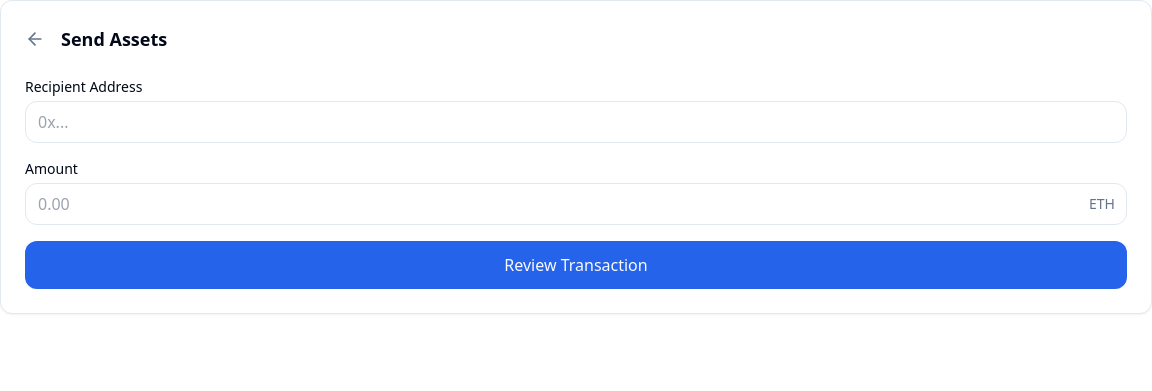
Test: TransferForm › should show error for invalid amount
The width and height of the screenshot is (1152, 391).
Type "0x742d35Cc6634C0532925a3b844Bc454e4438f44e" into the field with placeholder "0x..." at (576, 122), box [25, 101, 1127, 143]
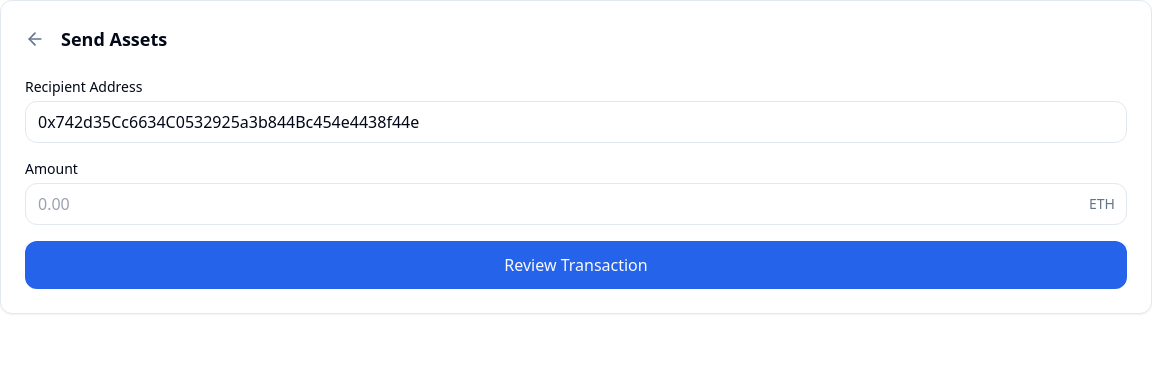
Type "0" into the number field with placeholder "0.00" at (576, 204), box [25, 183, 1127, 225]
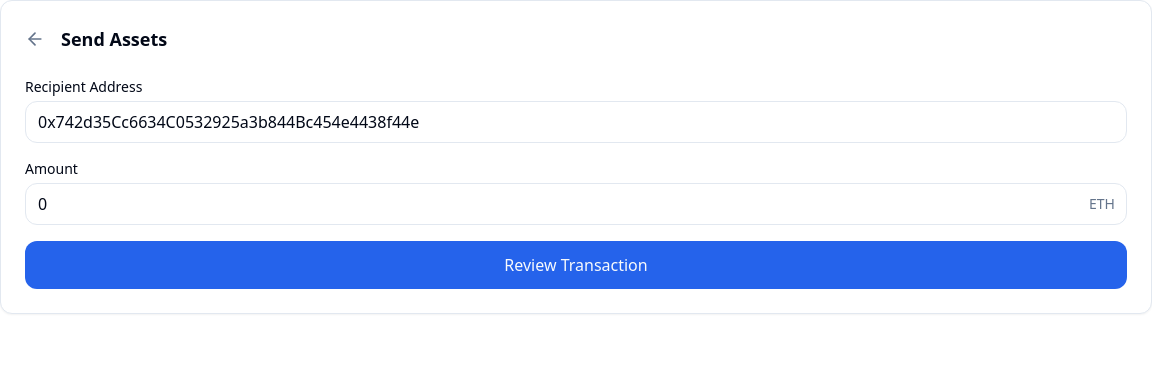
Click the button "Review Transaction" at (576, 265), box [25, 241, 1127, 289]
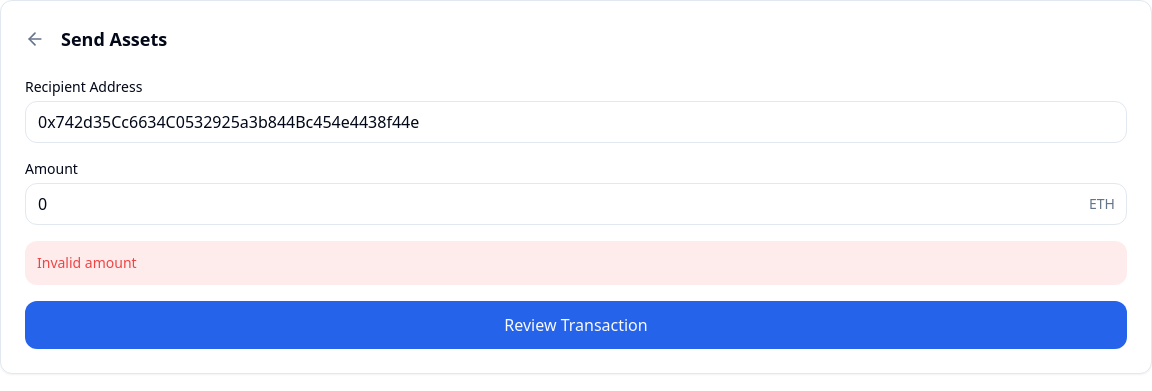
Expected: the text "Invalid amount" is shown, [25, 241, 1127, 285]
